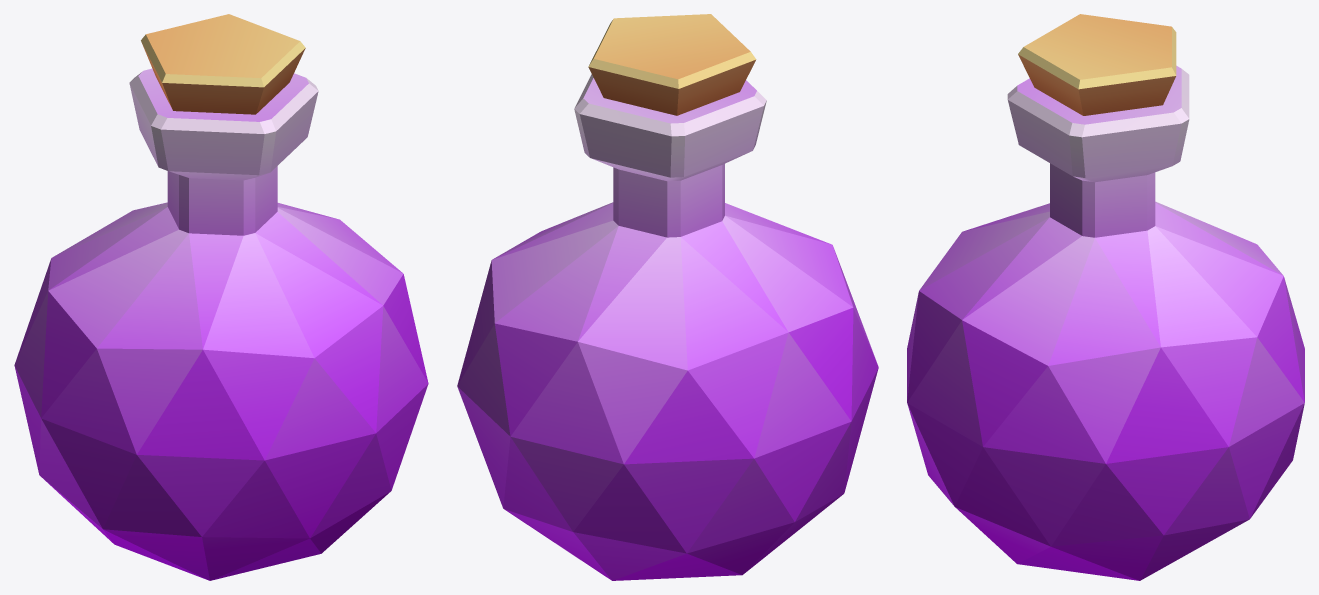
The model's file is Potion_Bottle.fbx.
3 views of the same model, side by side, from view 1: azimuth 30°, elevation 25°; view 2: azimuth 150°, elevation 25°; view 3: azimuth 270°, elevation 25° (orthographic).
Parts seen in each view (by area): view 1: Potion_Bottle; view 2: Potion_Bottle; view 3: Potion_Bottle.
Boxes of the visible parts, left/top/right/bottom form: Potion_Bottle: left=14, top=14, right=428, bottom=580; Potion_Bottle: left=457, top=14, right=878, bottom=580; Potion_Bottle: left=907, top=14, right=1304, bottom=580.
Size of the model in its own units: 18.7 by 25.53 by 17.78.
